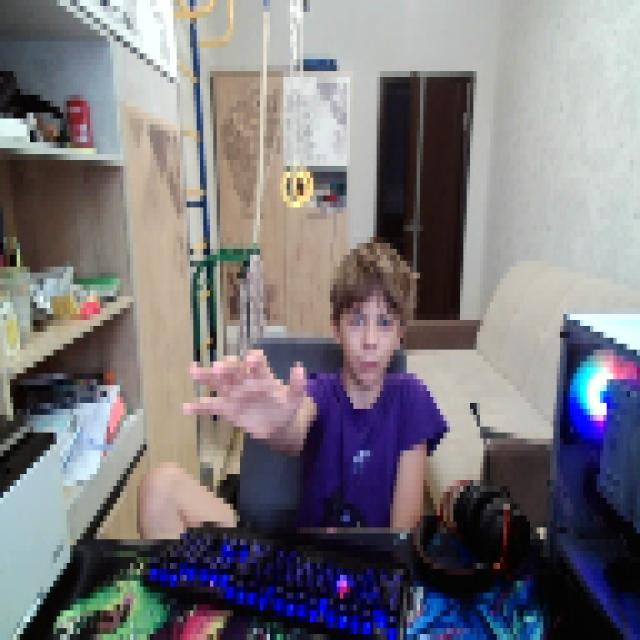hand: (169, 336, 296, 437)
